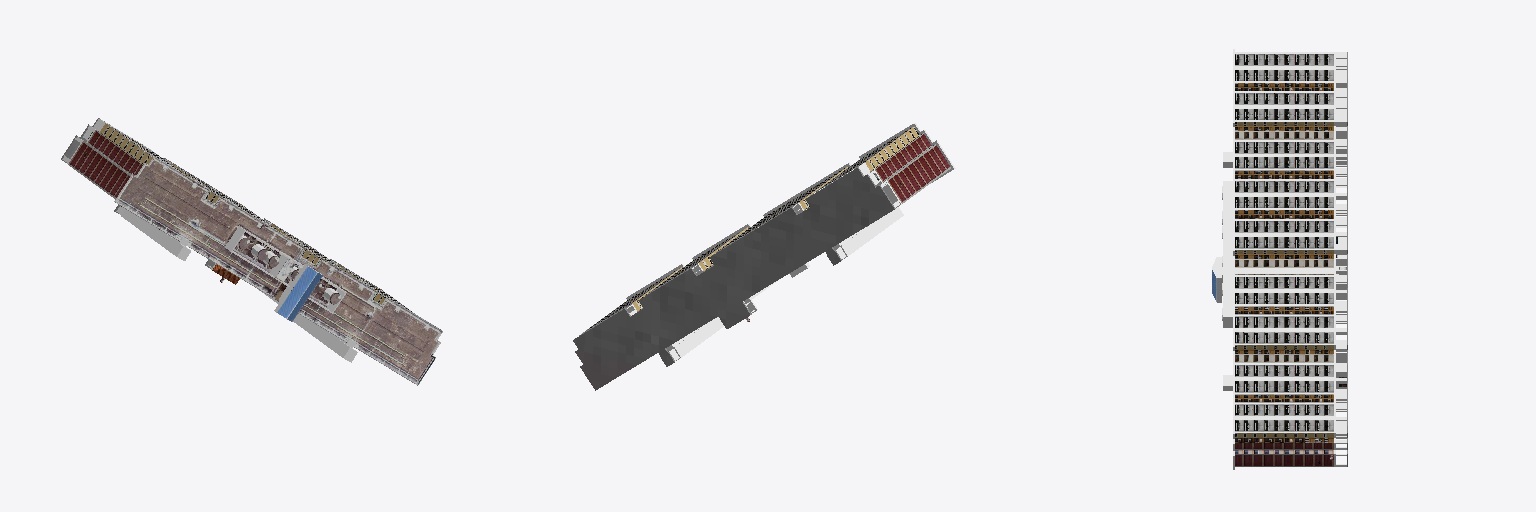
The picture shows the model from 3 angles: view 1: azimuth 30°, elevation 25°; view 2: azimuth 150°, elevation 25°; view 3: azimuth 270°, elevation 25°; orthographic projection.
Parts seen in each view (by area): view 1: polygon.804; view 2: polygon.804; view 3: polygon.804.
Part boxes in pixels (left/top/right/bottom): polygon.804: left=61, top=118, right=442, bottom=385; polygon.804: left=573, top=123, right=955, bottom=390; polygon.804: left=1212, top=49, right=1347, bottom=469.
Size of the model in its own units: 105 by 89.47 by 37.83.
1 materials, 1 textured.